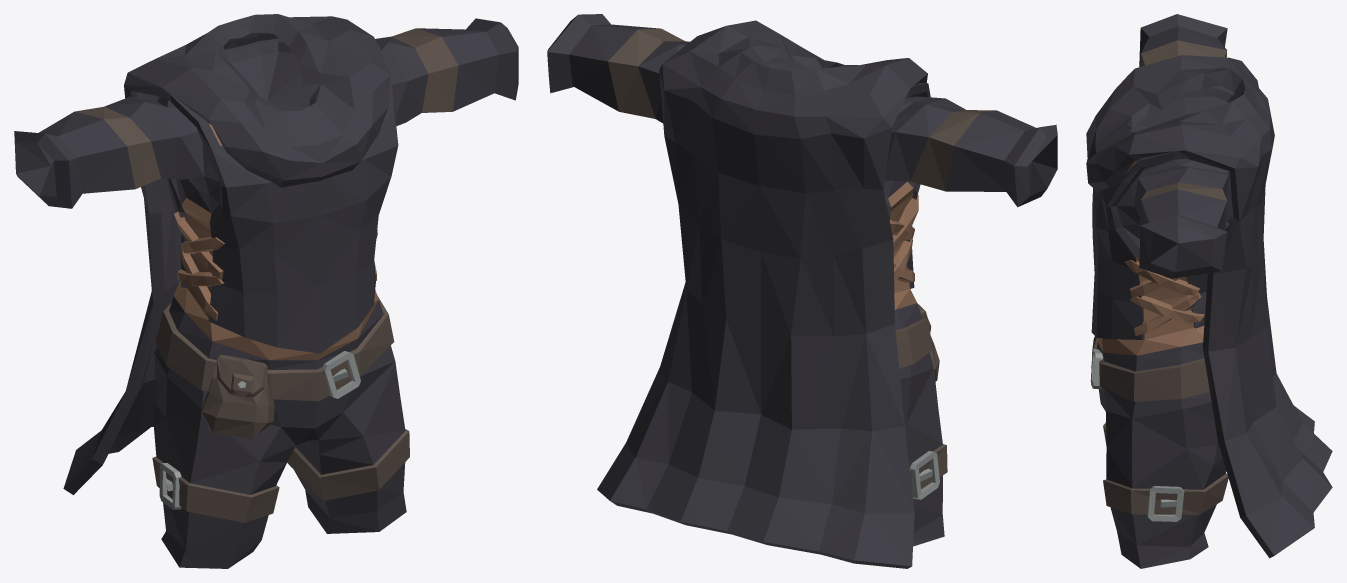
Rendered from armorShadowDisplay.fbx.
3 views of the same model, side by side, from view 1: azimuth 30°, elevation 25°; view 2: azimuth 150°, elevation 25°; view 3: azimuth 270°, elevation 25° (orthographic). The views are drawn at different scales.
Parts seen in each view (by area): view 1: armorShadowDisplay; view 2: armorShadowDisplay; view 3: armorShadowDisplay.
Boxes of the visible parts, x1,y1,x2,y2 form: armorShadowDisplay: (14, 14, 518, 568); armorShadowDisplay: (547, 14, 1057, 568); armorShadowDisplay: (1086, 14, 1332, 568).
Size of the model in its own units: 1.79 by 1.75 by 0.8891.
Materials: 1 (1 with a texture image).
